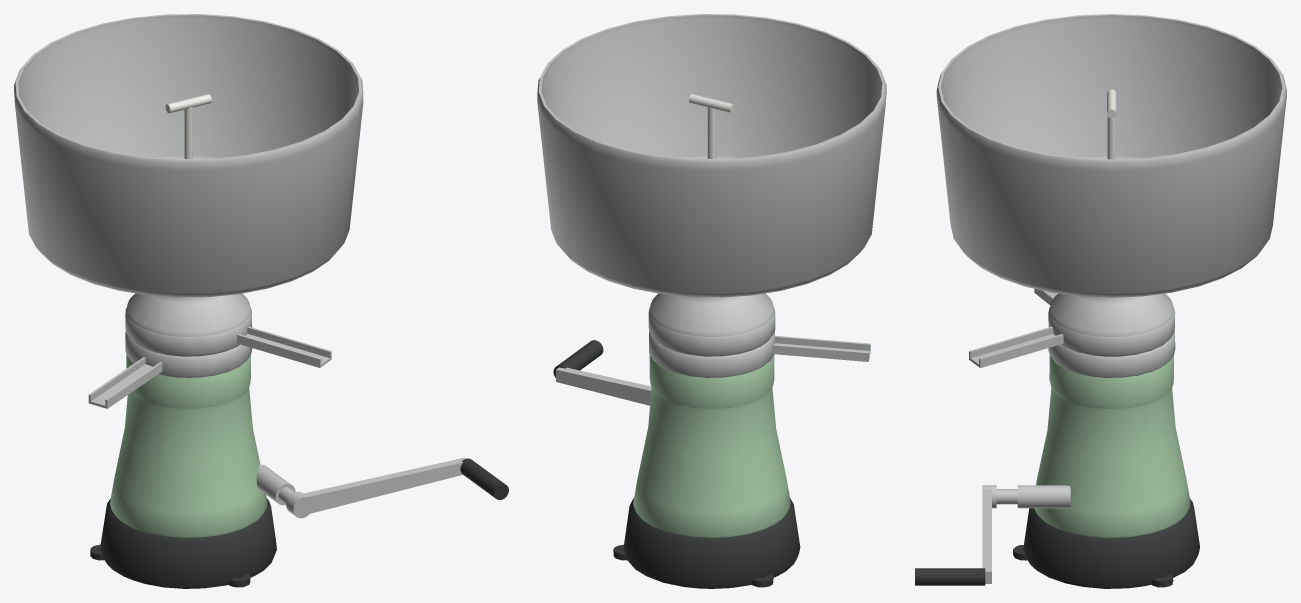
The picture shows the model from 3 angles, left to right: view 1: azimuth 30°, elevation 25°; view 2: azimuth 150°, elevation 25°; view 3: azimuth 270°, elevation 25°; orthographic projection.
Parts seen in each view (by area): view 1: hollow bowl, body shell, foot closed inferred underside, neck, upper casing collar, crank arm, lower collector, upper collector, upper open outlet, lower open outlet, hand grip, fixed drive collar; view 2: hollow bowl, body shell, foot closed inferred underside, neck, upper casing collar, lower collector, upper collector, lower open outlet, crank arm, hand grip, upright tap stem, T tap handle; view 3: hollow bowl, body shell, foot closed inferred underside, neck, upper casing collar, lower collector, upper collector, upper open outlet, fixed drive collar, hand grip, crank arm.
Part boxes in pixels (x1=…): hollow bowl: x1=14, y1=14, x2=363, y2=297; body shell: x1=110, y1=387, x2=267, y2=537; foot closed inferred underside: x1=100, y1=498, x2=276, y2=588; neck: x1=126, y1=293, x2=250, y2=336; upper casing collar: x1=126, y1=355, x2=250, y2=408; crank arm: x1=303, y1=457, x2=465, y2=514; lower collector: x1=125, y1=331, x2=252, y2=377; upper collector: x1=125, y1=307, x2=252, y2=356; upper open outlet: x1=237, y1=326, x2=331, y2=367; lower open outlet: x1=88, y1=357, x2=162, y2=408; hand grip: x1=460, y1=458, x2=508, y2=499; fixed drive collar: x1=256, y1=464, x2=295, y2=505; hollow bowl: x1=537, y1=14, x2=886, y2=297; body shell: x1=633, y1=387, x2=790, y2=537; foot closed inferred underside: x1=623, y1=498, x2=800, y2=588; neck: x1=649, y1=293, x2=774, y2=336; upper casing collar: x1=649, y1=355, x2=774, y2=408; lower collector: x1=649, y1=331, x2=774, y2=377; upper collector: x1=648, y1=307, x2=775, y2=356; lower open outlet: x1=772, y1=335, x2=870, y2=361; crank arm: x1=556, y1=367, x2=651, y2=405; hand grip: x1=553, y1=340, x2=603, y2=377; upright tap stem: x1=707, y1=107, x2=716, y2=158; T tap handle: x1=689, y1=94, x2=734, y2=113; hollow bowl: x1=936, y1=14, x2=1286, y2=297; body shell: x1=1034, y1=387, x2=1190, y2=537; foot closed inferred underside: x1=1023, y1=499, x2=1199, y2=588; neck: x1=1049, y1=293, x2=1174, y2=337; upper casing collar: x1=1049, y1=355, x2=1173, y2=408; lower collector: x1=1048, y1=332, x2=1175, y2=377; upper collector: x1=1048, y1=307, x2=1175, y2=356; upper open outlet: x1=969, y1=326, x2=1063, y2=367; fixed drive collar: x1=1017, y1=485, x2=1070, y2=508; hand grip: x1=915, y1=568, x2=985, y2=585; crank arm: x1=982, y1=489, x2=991, y2=583.
Bounding box in the file's own units: 0.4495 × 0.535 × 0.3875.
